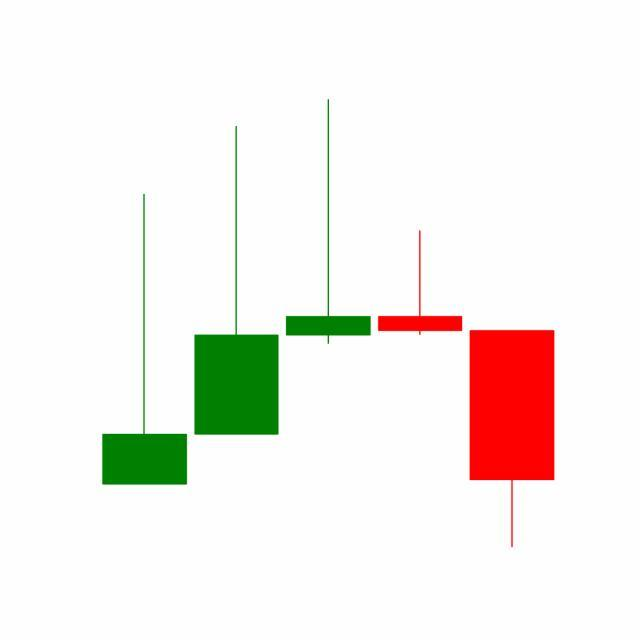Gravestone Doji: (374, 229, 468, 337)
